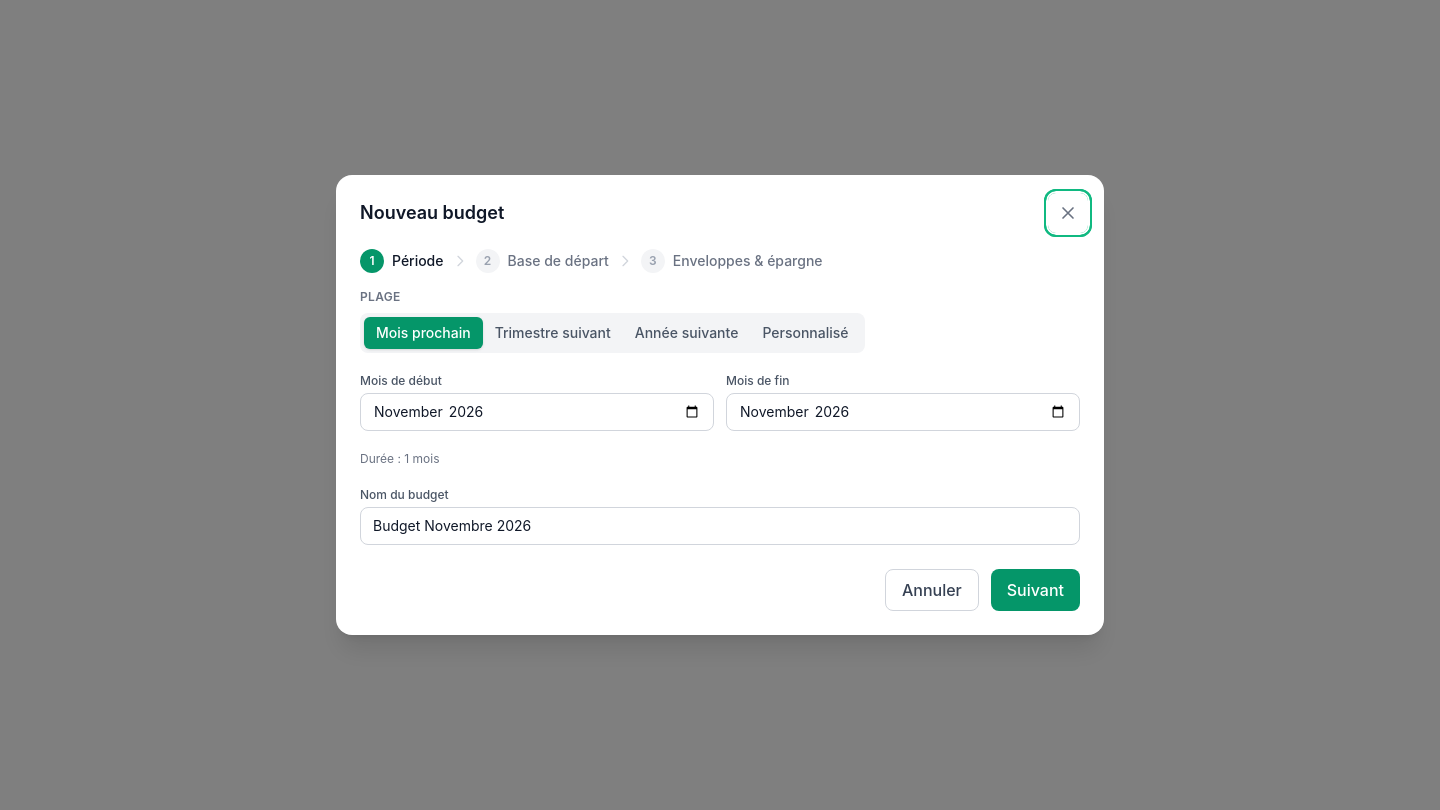
NewBudgetPlanModal › blocks moving to step 2 when the date range is invalid
The image size is (1440, 810).
Replace the text in the field with test id "new-plan-start-month" with "2026-06" at (537, 412), box [360, 393, 714, 431]
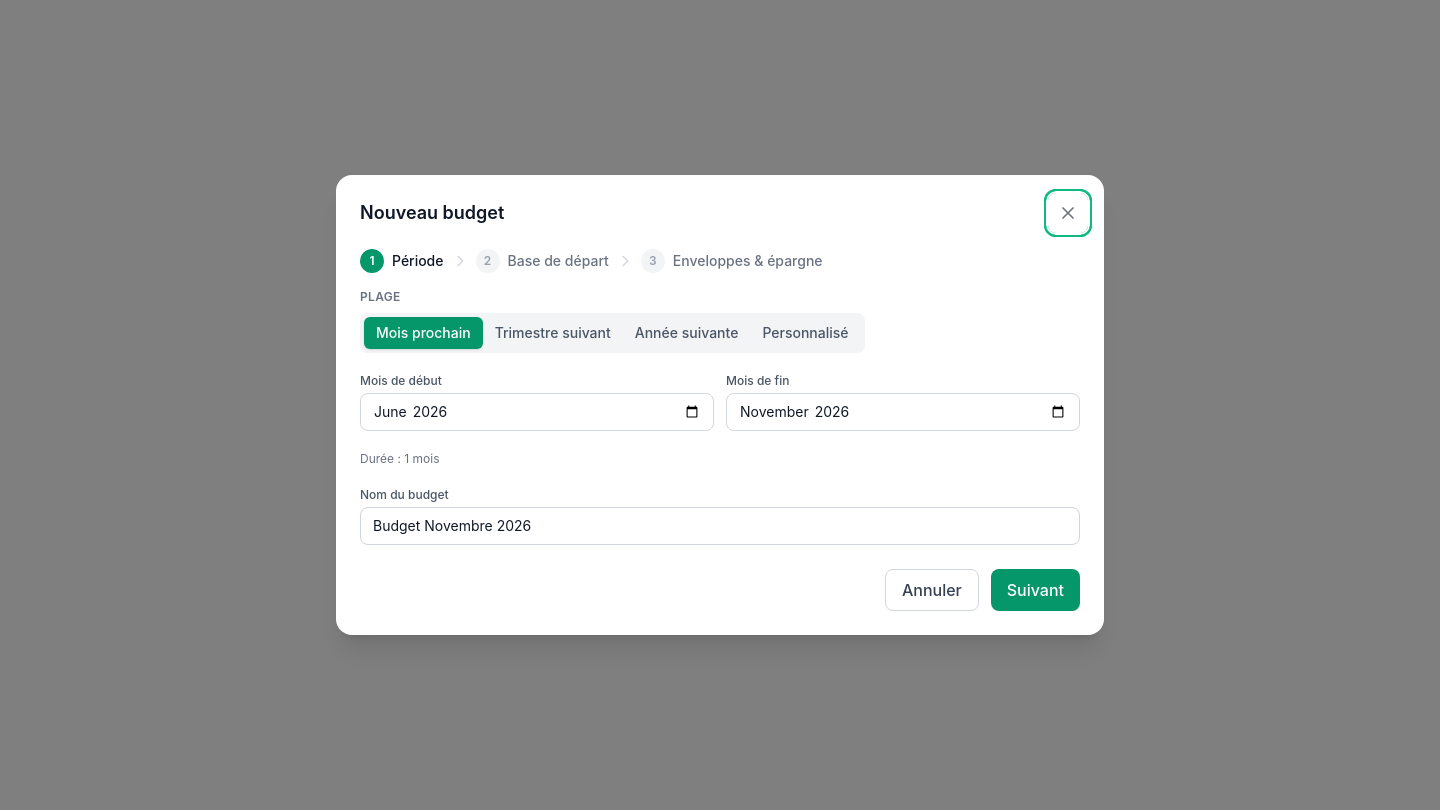
Replace the text in the field with test id "new-plan-end-month" with "2026-04" at (903, 412), box [726, 393, 1080, 431]
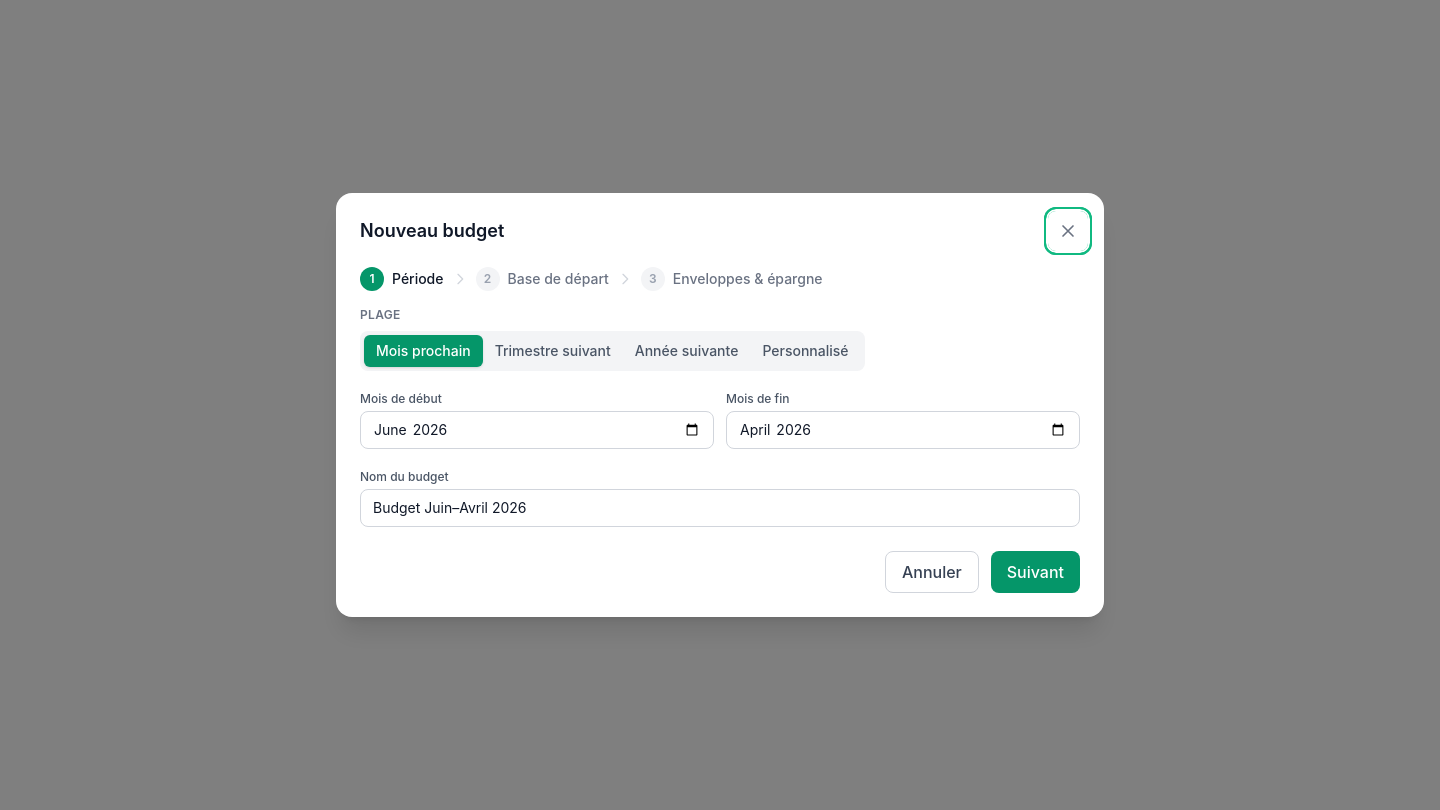
Click the button with test id "next-step-button".
click(1035, 572)  # box [991, 551, 1080, 593]
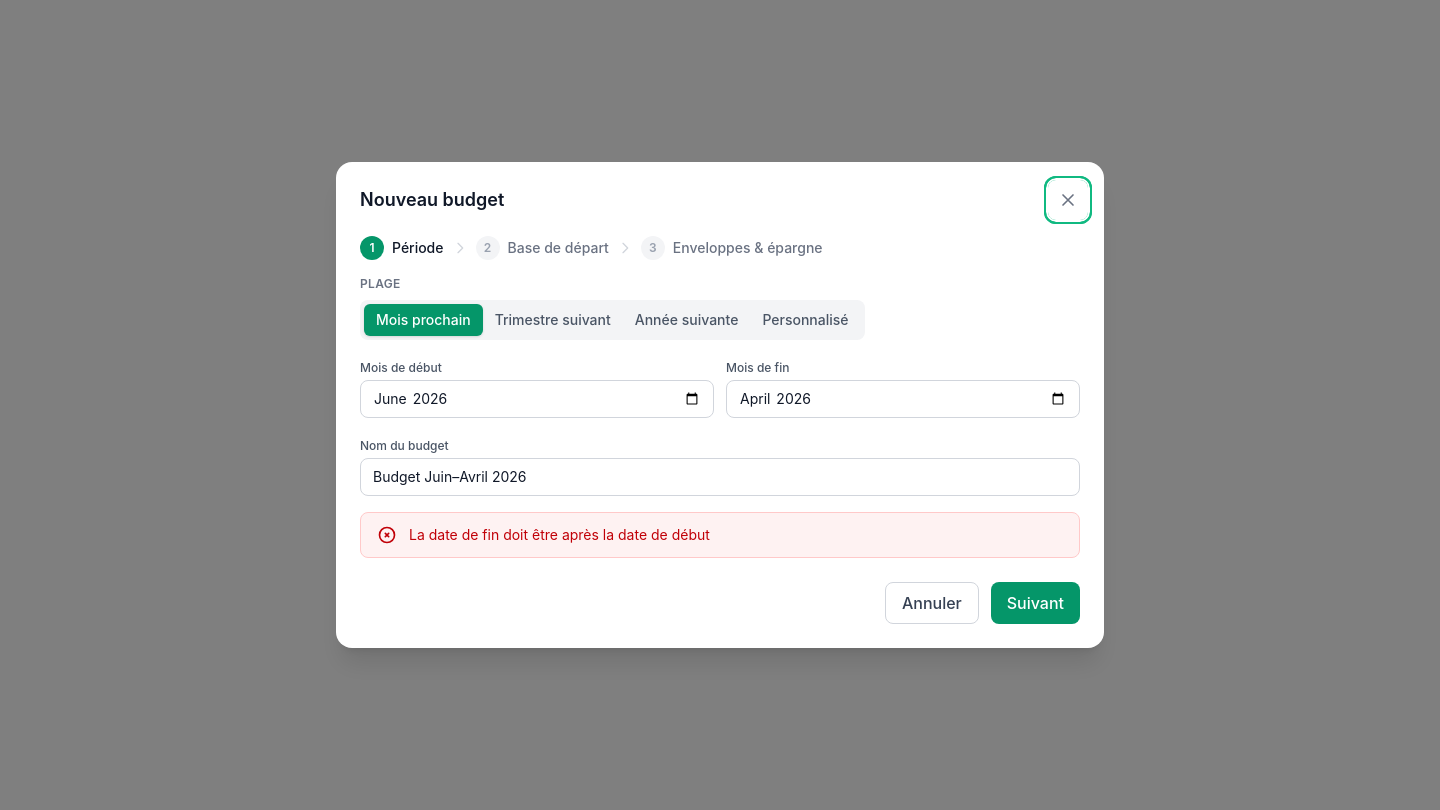
expect the button with test id "next-step-button" is shown: met, box [991, 582, 1080, 624]
expect the message with test id "modal-error" shows "après": met, box [409, 526, 710, 543]
